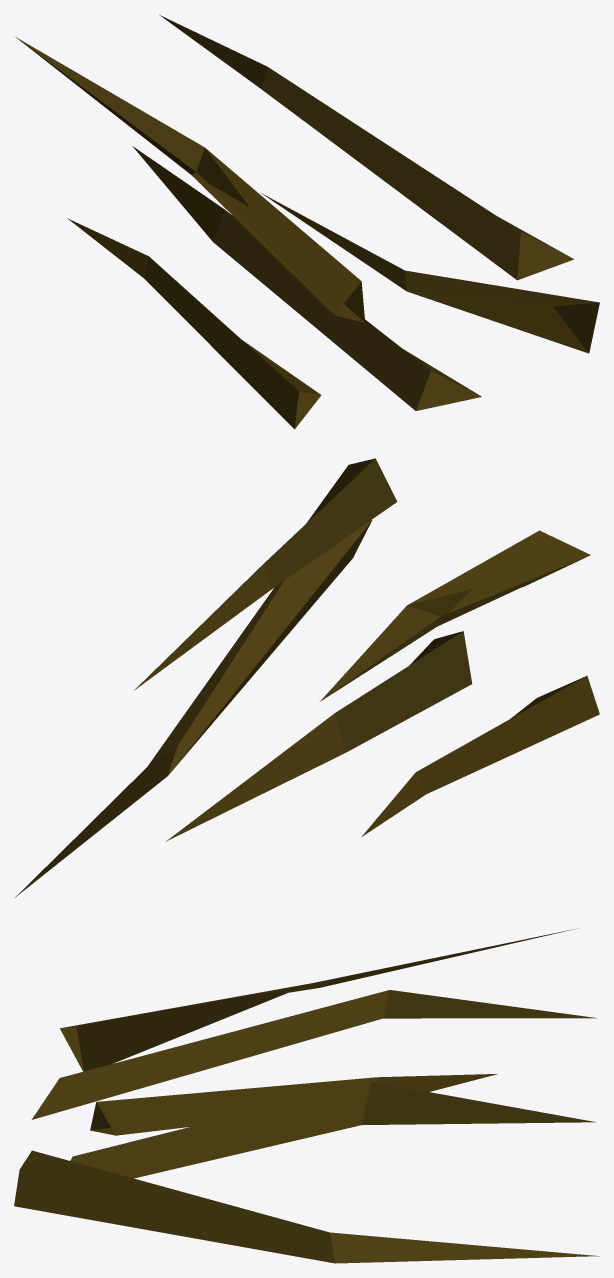
Rendered from Gras03.fbx.
The picture shows the model from 3 angles, top to bottom: view 1: azimuth 30°, elevation 25°; view 2: azimuth 150°, elevation 25°; view 3: azimuth 270°, elevation 25°; orthographic projection. The views are drawn at different scales.
Visible parts, largest first — view 1: Gras03; view 2: Gras03; view 3: Gras03.
Part boxes in pixels (left/top/right/bottom): Gras03: left=16, top=15, right=599, bottom=429; Gras03: left=15, top=458, right=599, bottom=897; Gras03: left=14, top=928, right=599, bottom=1263.
Size of the model in its own units: 3017 by 2337 by 5675.
